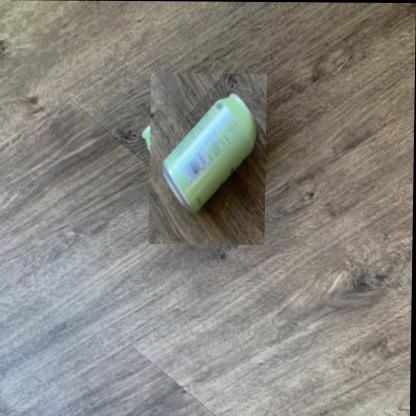trash: (163, 94, 255, 212)
